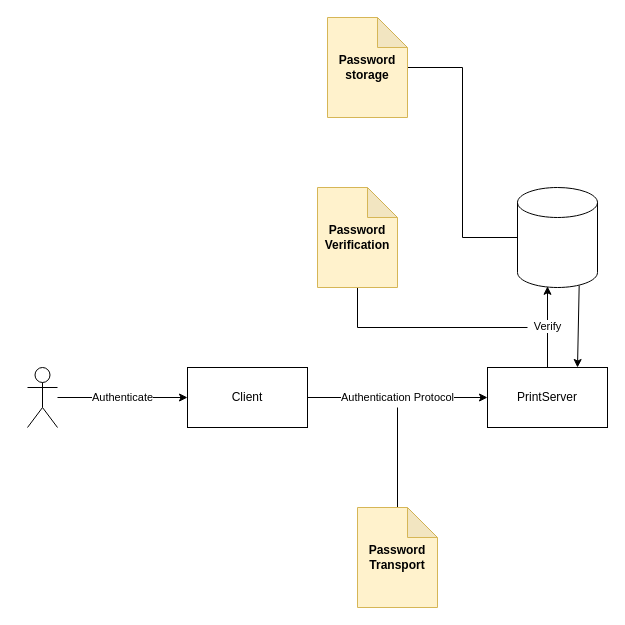
Image size: 625x625. Some labels were removed from this diagram. Each missing label, with the centre of its shape:
"Company" goes at pixel 42 397.
"System File/Public File/DBMS" goes at pixel 557 237.
